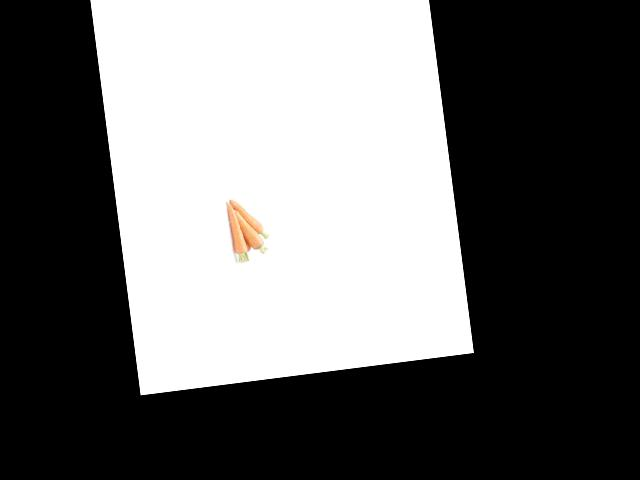carrot: (220, 198, 248, 260)
